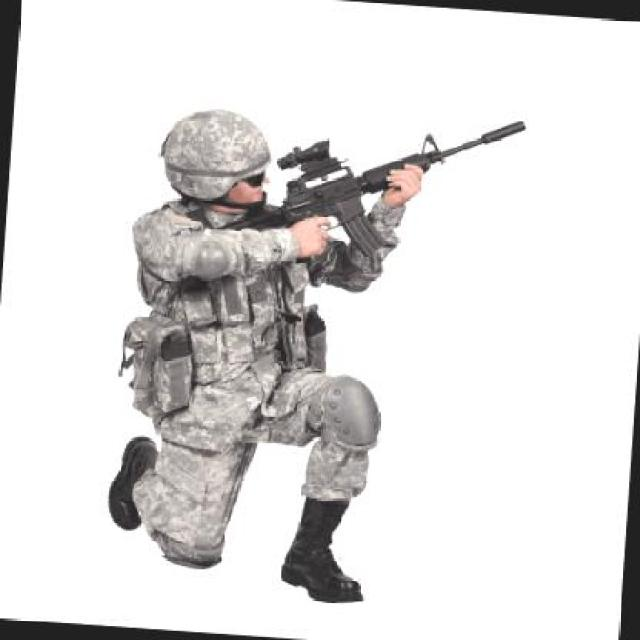MIL_Pax: (98, 101, 402, 602)
